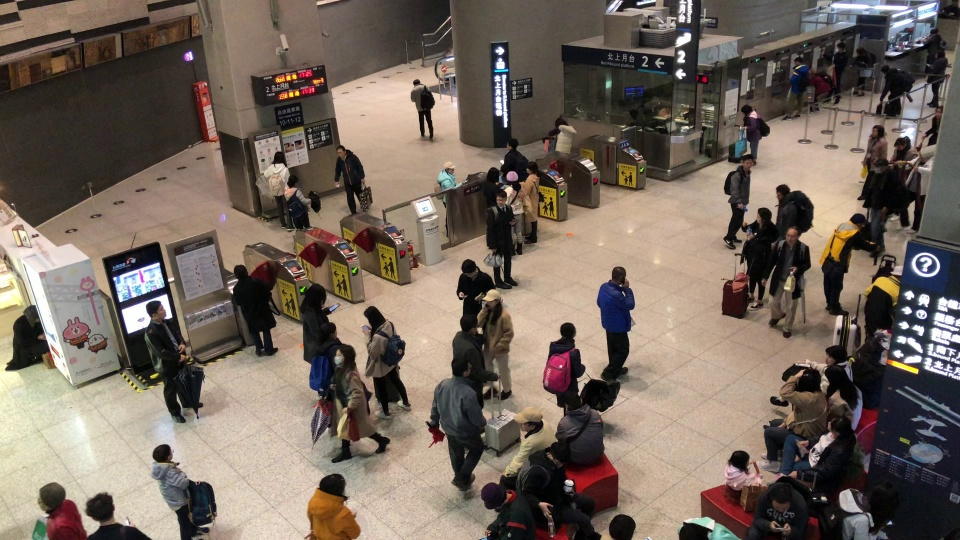person_head: (499, 136, 529, 183), (84, 492, 116, 521), (37, 480, 66, 510), (871, 482, 900, 512), (513, 406, 542, 433), (609, 513, 636, 540), (480, 481, 505, 510), (769, 485, 793, 513), (824, 365, 848, 390), (320, 473, 346, 495), (303, 283, 327, 306), (797, 369, 820, 392), (334, 343, 356, 366), (363, 305, 385, 328), (450, 355, 472, 378), (827, 415, 851, 435), (825, 344, 847, 365), (730, 449, 751, 471), (550, 443, 569, 467), (458, 313, 479, 334), (145, 299, 166, 319), (151, 443, 173, 462), (482, 288, 502, 307), (563, 391, 583, 410), (559, 321, 577, 340), (461, 257, 478, 277), (319, 321, 338, 338), (678, 526, 701, 540), (611, 265, 627, 285), (849, 213, 869, 229), (24, 304, 40, 321), (756, 206, 772, 223), (785, 226, 801, 243), (775, 183, 790, 201), (873, 158, 888, 174), (486, 165, 500, 182), (740, 153, 754, 169), (495, 190, 508, 207), (233, 264, 247, 279), (525, 160, 539, 175), (893, 136, 908, 150), (506, 170, 519, 186), (870, 123, 884, 137), (273, 149, 286, 164), (506, 137, 520, 150), (918, 146, 929, 162), (443, 160, 455, 174), (740, 103, 753, 115), (287, 174, 298, 188), (554, 116, 568, 127), (892, 265, 903, 279), (336, 144, 346, 158), (835, 41, 846, 52), (880, 63, 889, 76), (855, 46, 866, 56), (935, 105, 943, 118), (935, 49, 945, 58), (792, 56, 803, 64), (930, 27, 939, 34), (413, 78, 420, 85), (809, 66, 813, 74)
person_vbox: (429, 355, 488, 491), (514, 442, 596, 536), (327, 344, 391, 464), (755, 369, 828, 472), (144, 299, 204, 423), (766, 415, 864, 488), (762, 365, 863, 434), (360, 305, 412, 420), (150, 443, 210, 540), (819, 212, 870, 317), (769, 344, 853, 406), (766, 226, 811, 341), (817, 481, 900, 539), (596, 265, 636, 382), (299, 282, 338, 401), (232, 264, 278, 357), (477, 289, 515, 401), (553, 391, 605, 470), (739, 207, 778, 312), (542, 321, 586, 414), (452, 313, 501, 393), (500, 406, 556, 475), (745, 480, 809, 540), (308, 321, 342, 433), (306, 472, 361, 539), (861, 157, 896, 257), (479, 480, 537, 540), (485, 190, 519, 290), (84, 491, 152, 539), (896, 145, 933, 233), (722, 154, 755, 250), (36, 481, 88, 539), (5, 304, 49, 372), (863, 264, 904, 336), (263, 150, 295, 232), (887, 135, 917, 222), (433, 160, 465, 240), (455, 258, 497, 318), (334, 144, 366, 215), (775, 182, 814, 235), (504, 169, 527, 255), (739, 103, 770, 165), (819, 41, 849, 105), (858, 122, 888, 184), (519, 160, 541, 244), (879, 63, 913, 117), (781, 56, 809, 121), (723, 449, 762, 492), (410, 78, 436, 141), (677, 515, 739, 540), (284, 174, 311, 229), (805, 65, 834, 115), (926, 49, 948, 107), (852, 46, 877, 97), (548, 115, 578, 153), (920, 105, 944, 145), (482, 166, 503, 208), (922, 26, 947, 55)
